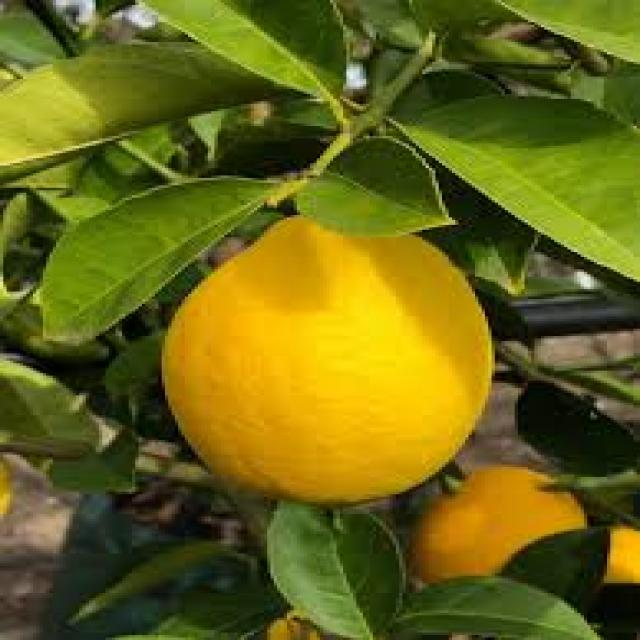Lemon: (160, 215, 497, 505)
